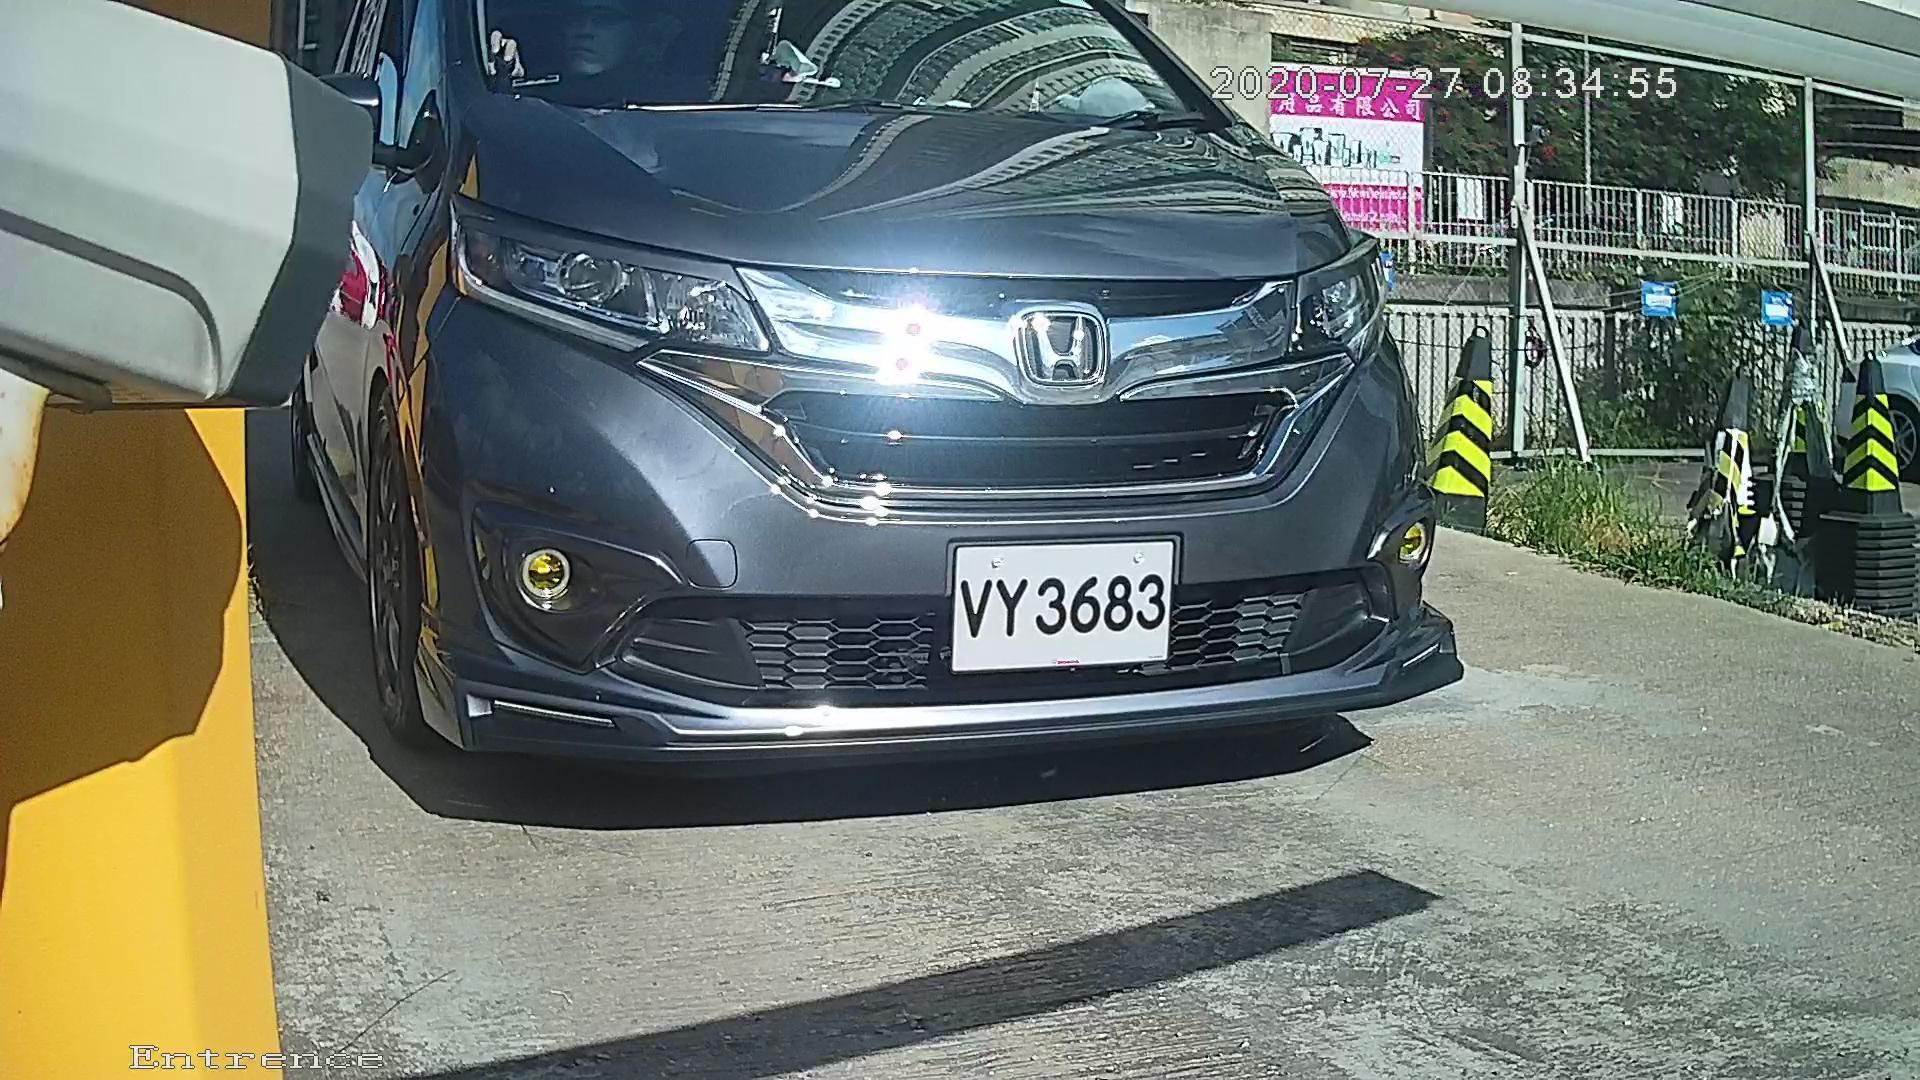License Plate: (935, 521, 1192, 675)
